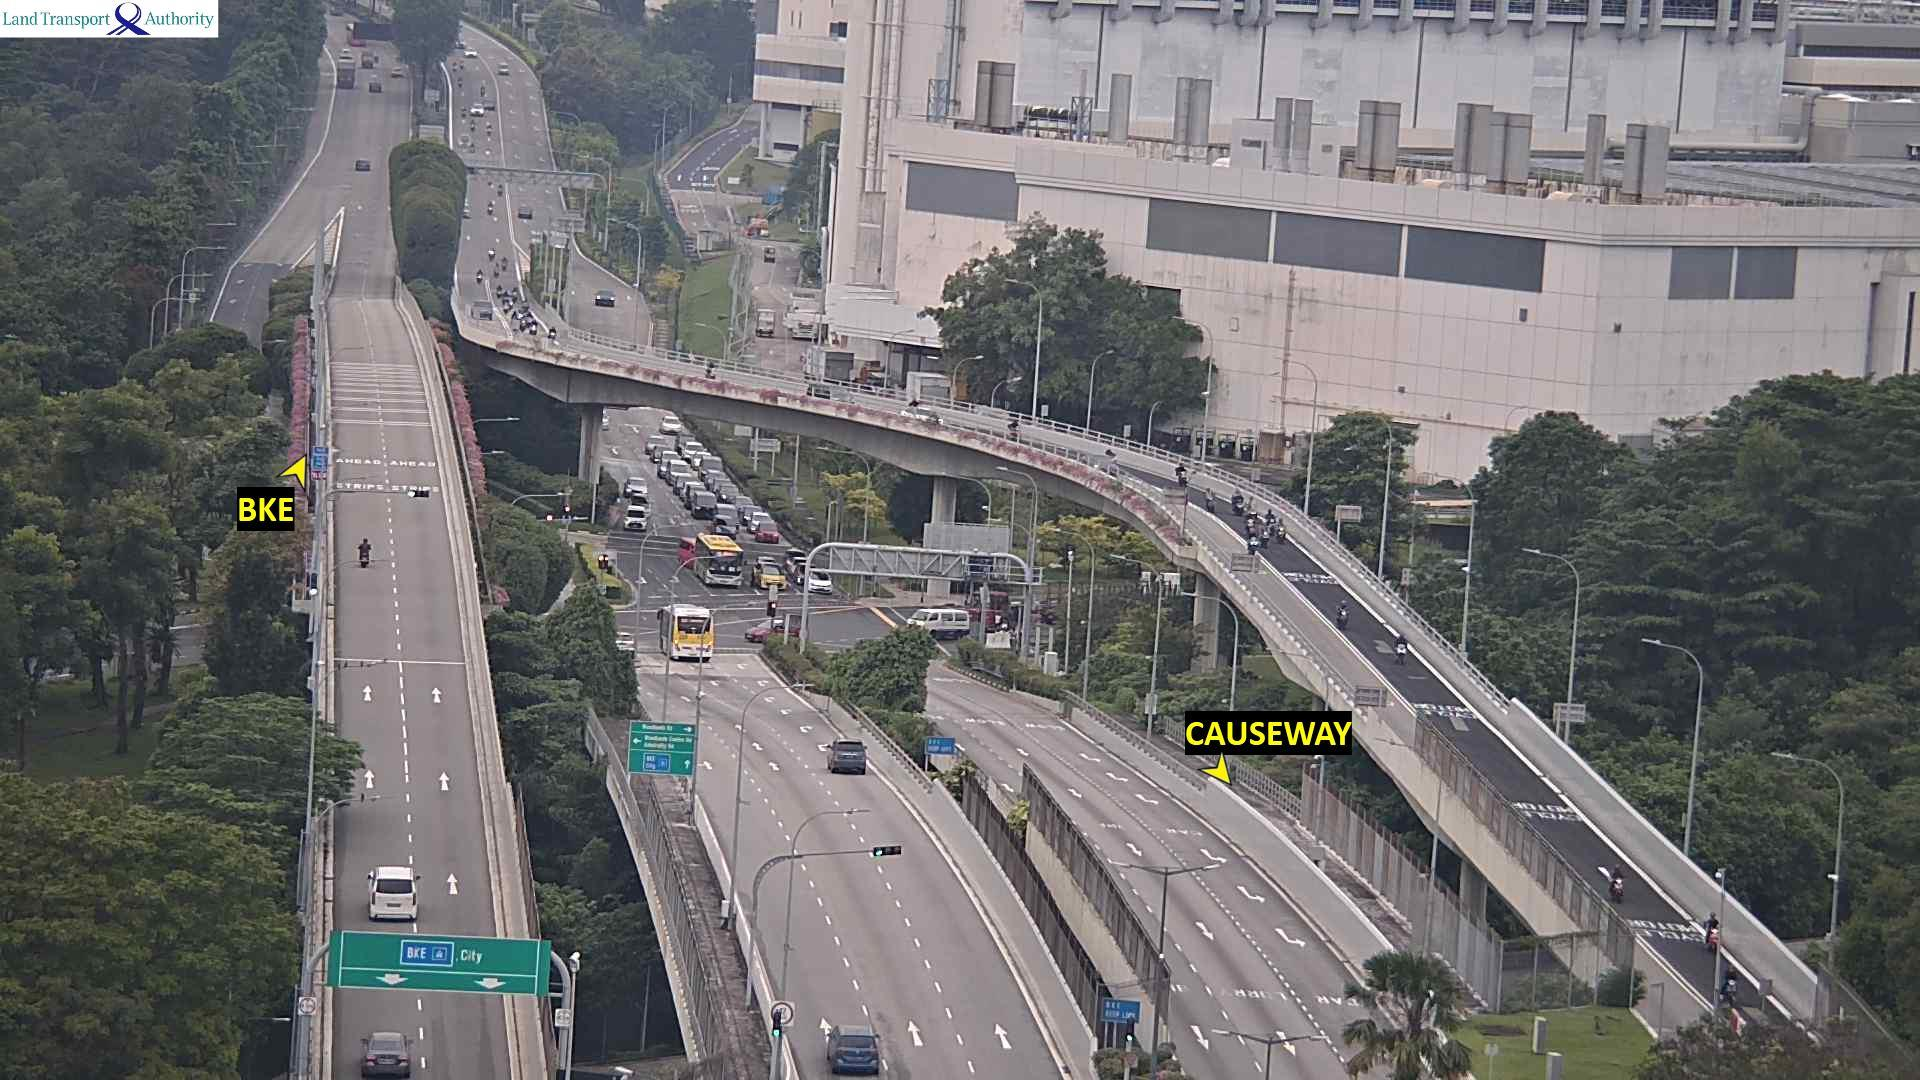vehicle-causeway-johor: (700, 537, 743, 588), (755, 566, 784, 590), (747, 511, 777, 532), (659, 460, 687, 479), (700, 457, 723, 480), (693, 494, 717, 515), (685, 484, 709, 505), (1724, 963, 1737, 1001), (811, 573, 832, 596), (676, 475, 699, 496), (1706, 908, 1719, 944), (648, 437, 671, 457), (908, 407, 935, 424), (758, 521, 780, 541), (785, 551, 807, 570), (472, 300, 492, 320), (714, 520, 736, 538), (670, 463, 687, 486), (1262, 508, 1277, 533), (660, 416, 683, 432), (1611, 863, 1622, 896), (715, 505, 736, 522), (685, 444, 706, 461), (797, 565, 819, 581), (809, 390, 832, 405), (706, 474, 729, 489), (1231, 486, 1244, 512), (1166, 466, 1182, 487), (734, 497, 752, 515), (742, 506, 761, 522), (693, 452, 712, 468), (657, 448, 677, 463), (1394, 637, 1405, 663), (1336, 600, 1347, 626), (676, 435, 696, 449), (1203, 489, 1215, 510), (1014, 417, 1025, 436), (1278, 517, 1285, 542), (1249, 534, 1257, 553), (529, 320, 537, 334), (707, 363, 714, 377), (549, 327, 555, 339)
vehicle-causeway-singapore: (657, 610, 720, 664), (360, 868, 418, 921), (820, 1030, 880, 1079), (353, 1035, 414, 1077), (363, 867, 418, 897), (826, 746, 865, 778), (359, 537, 369, 563), (412, 488, 431, 497)
